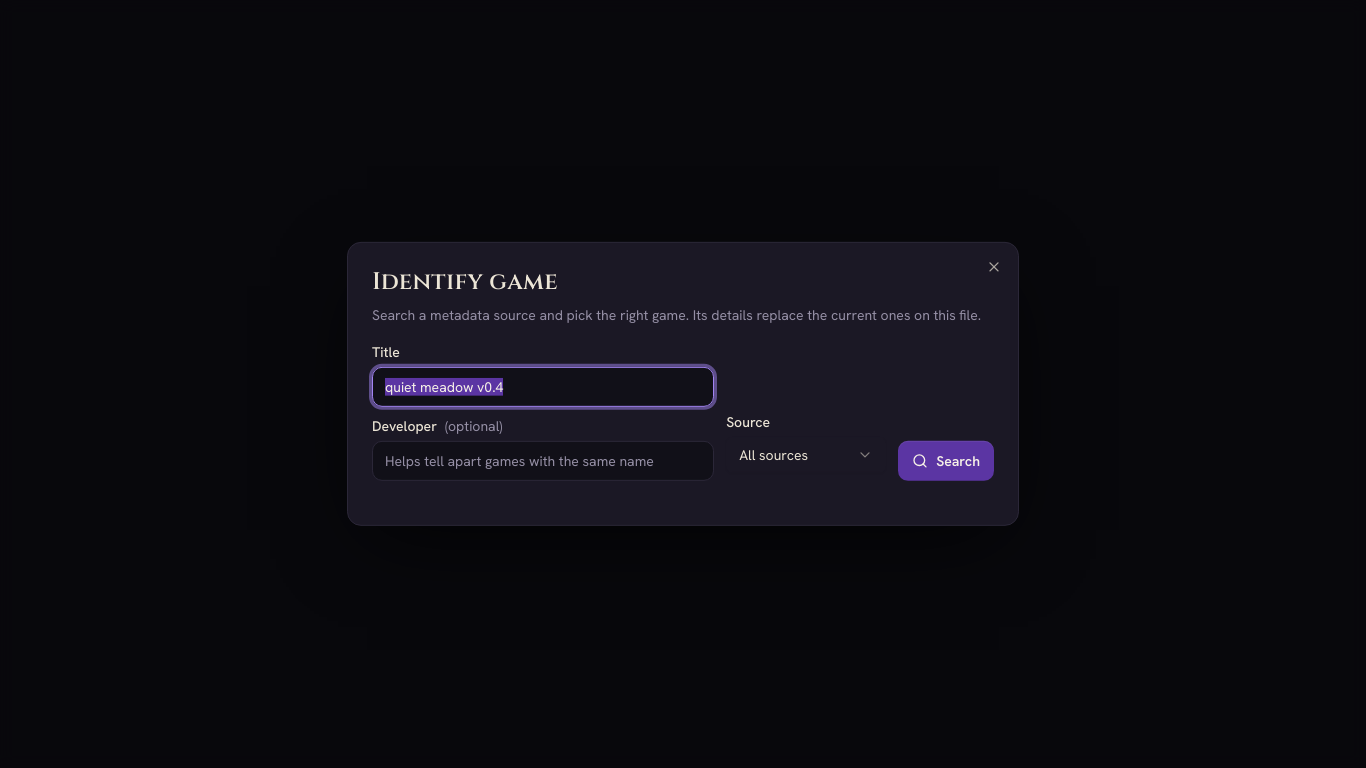
Test case: IdentifyDialog › says so when nothing is found
Click the button "Search".
click(946, 461)  # box [898,441,994,481]
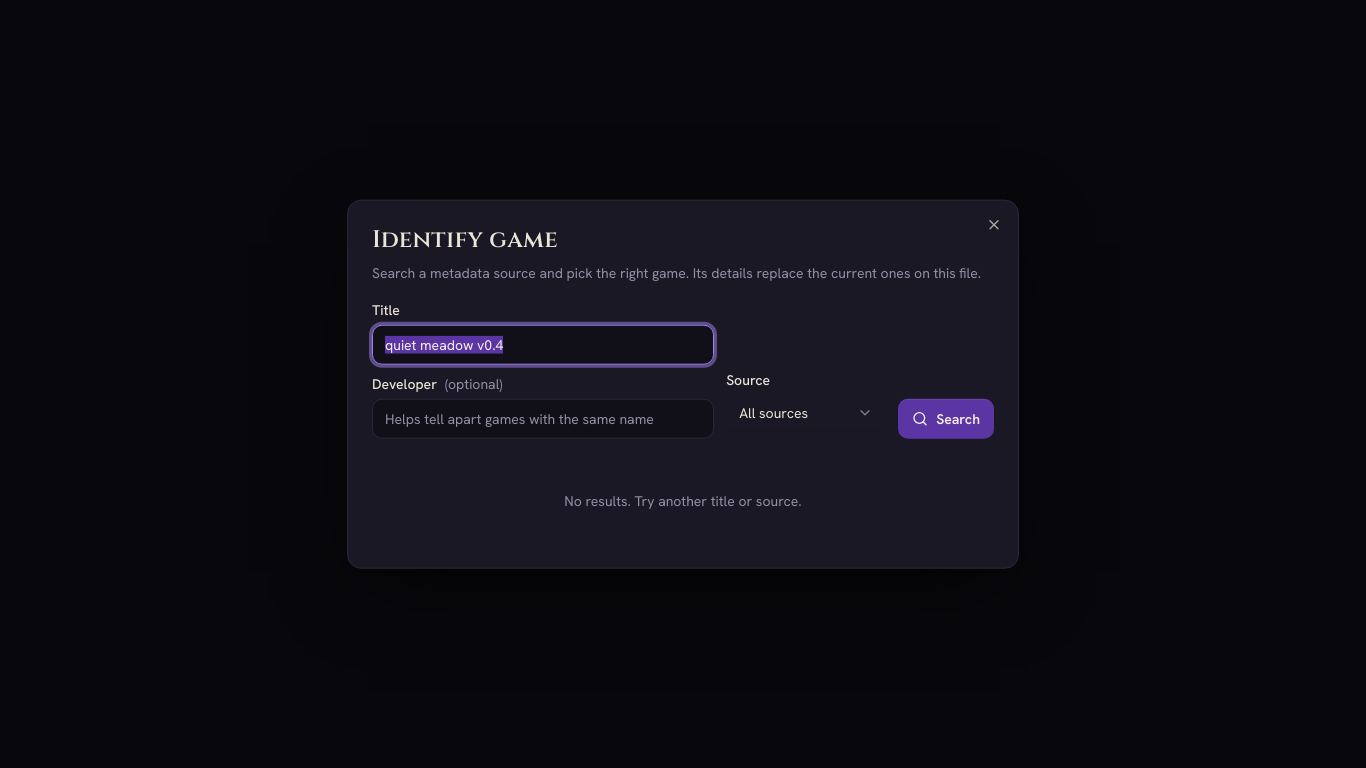
Result: the text "No results. Try another title or source." is shown at [564,492,802,510]
